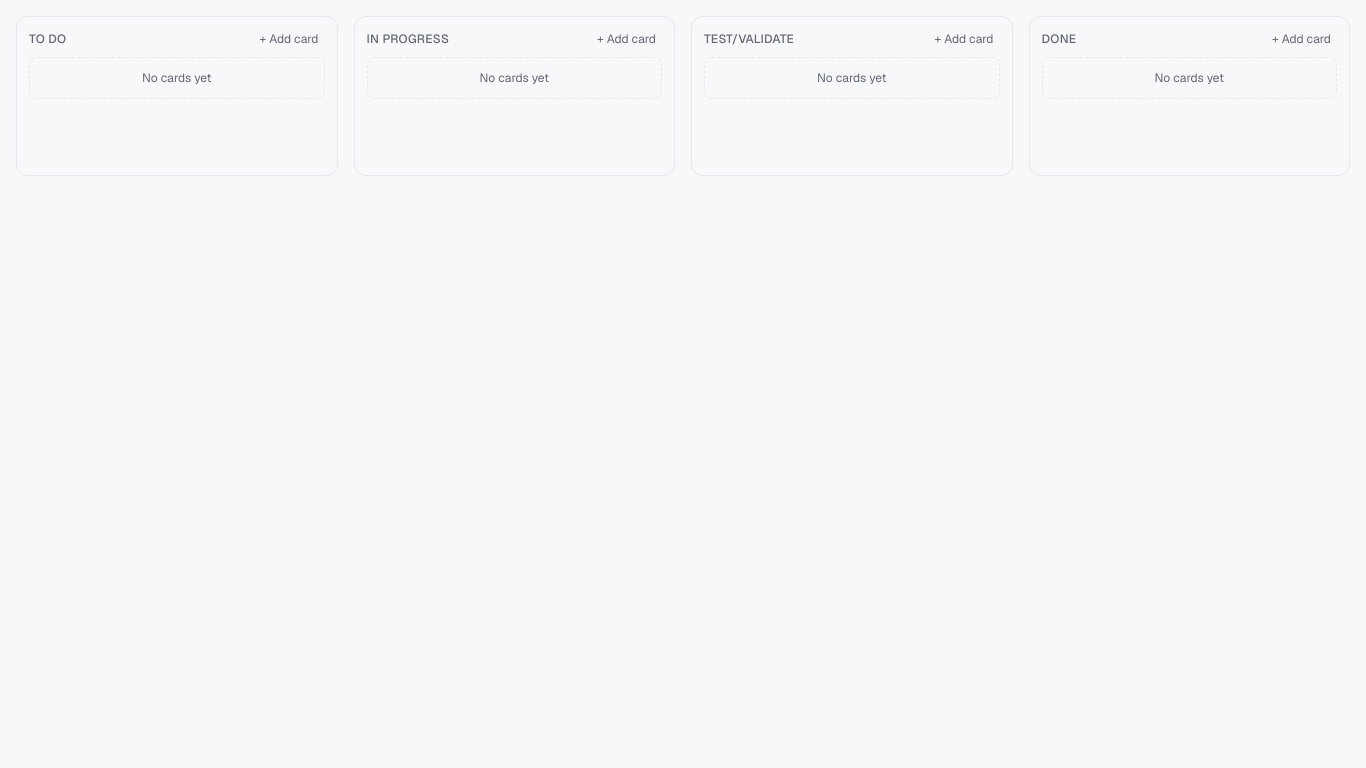
Board › creates a card via the add-card modal and shows it without a reload
Step 1. Click the button with aria-label "add card to to do" → (289, 39), box [254, 29, 324, 49]
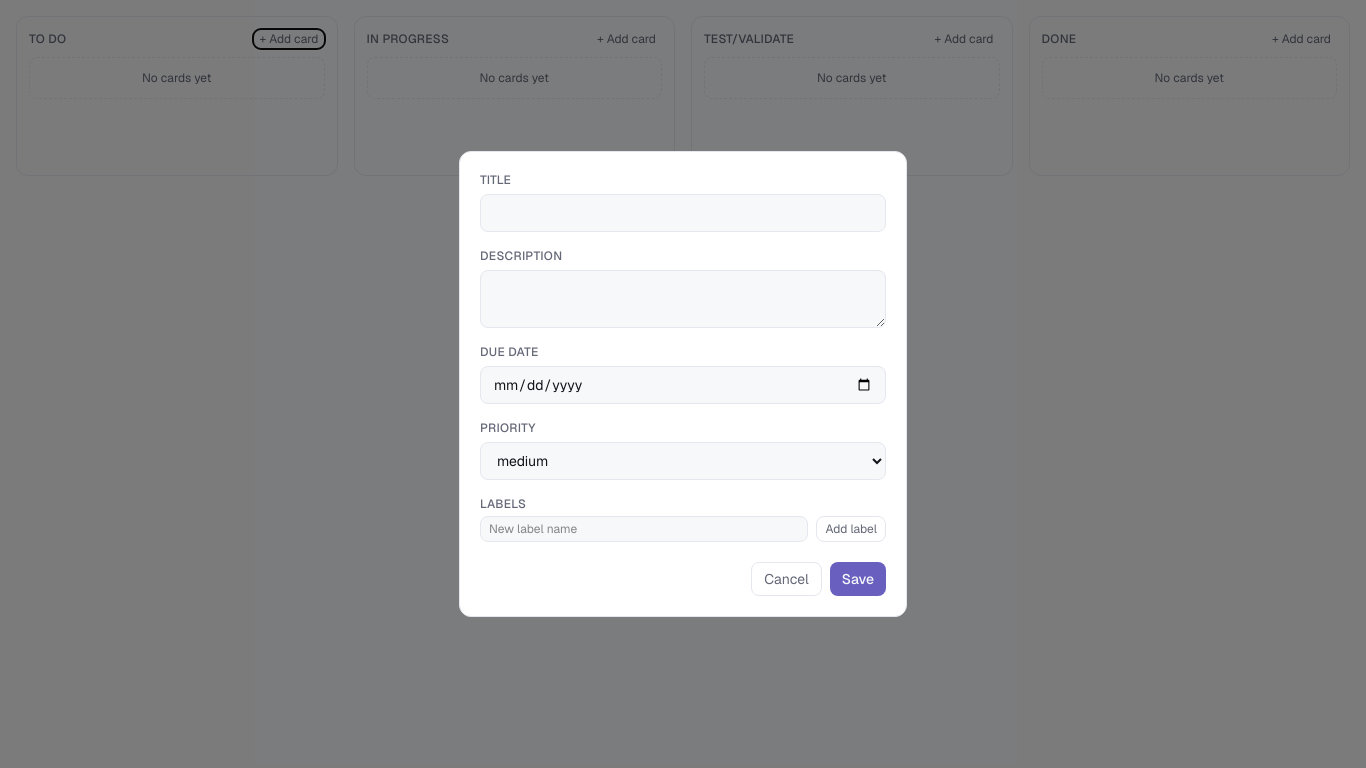
Step 2. Type "Write tests" into the field labelled "Title" → (683, 213), box [480, 194, 886, 232]
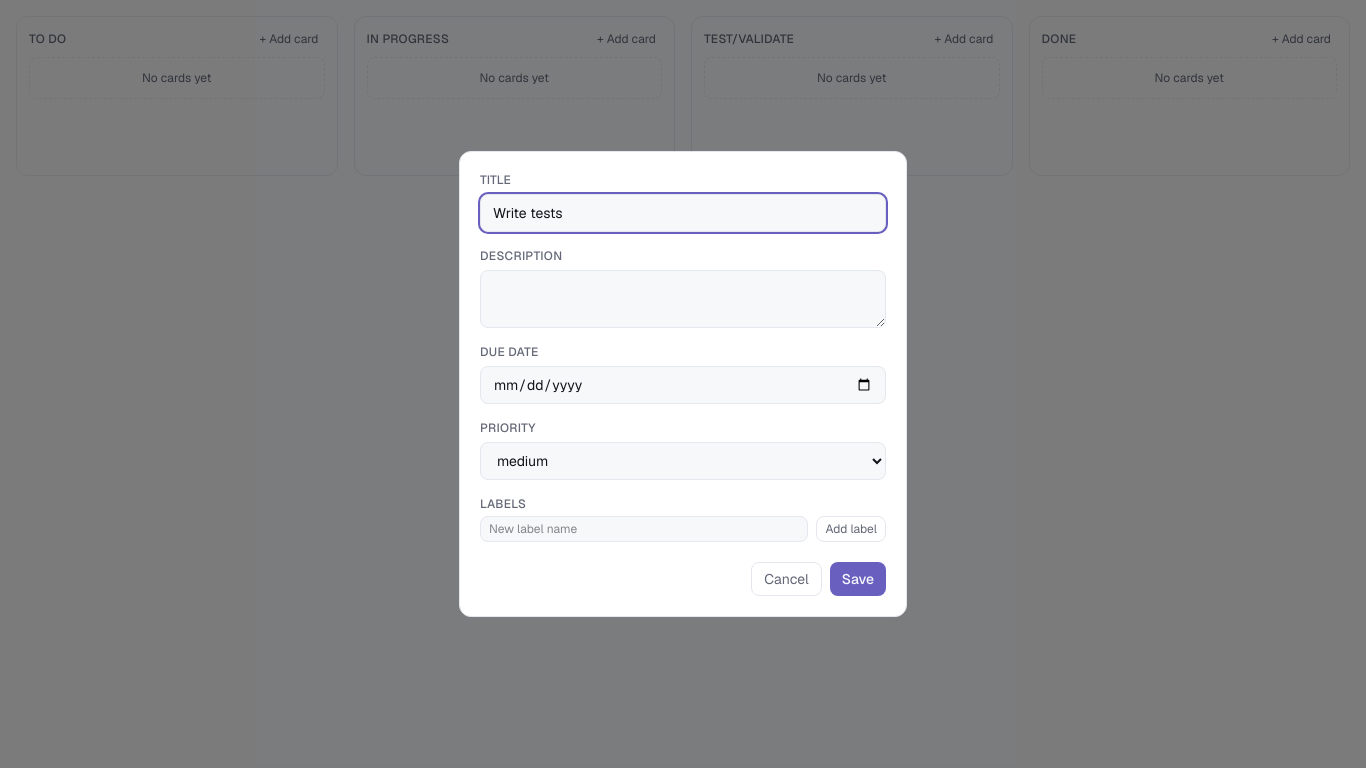
Step 3. Click the button "Save" → (858, 579), box [830, 562, 886, 596]
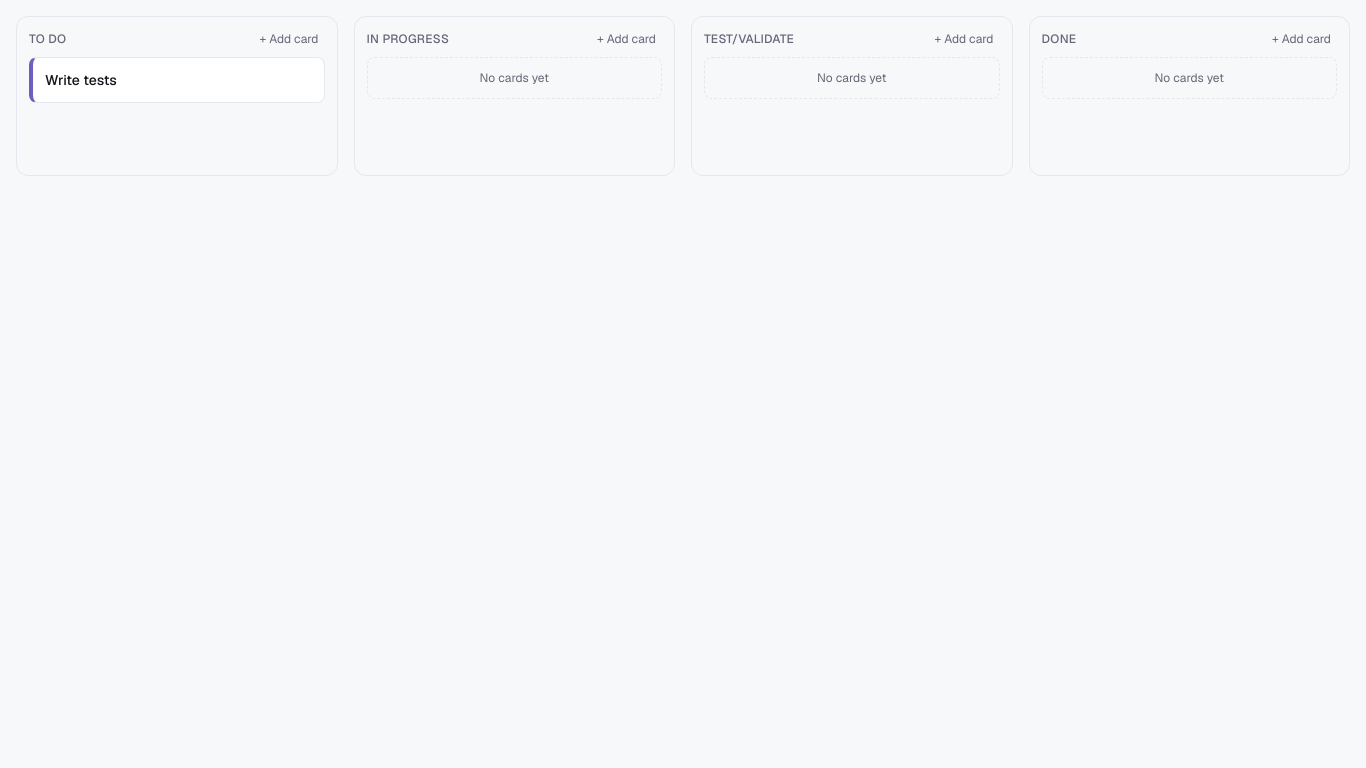
Result: the text "Write tests" is shown at [45, 71, 117, 89]
